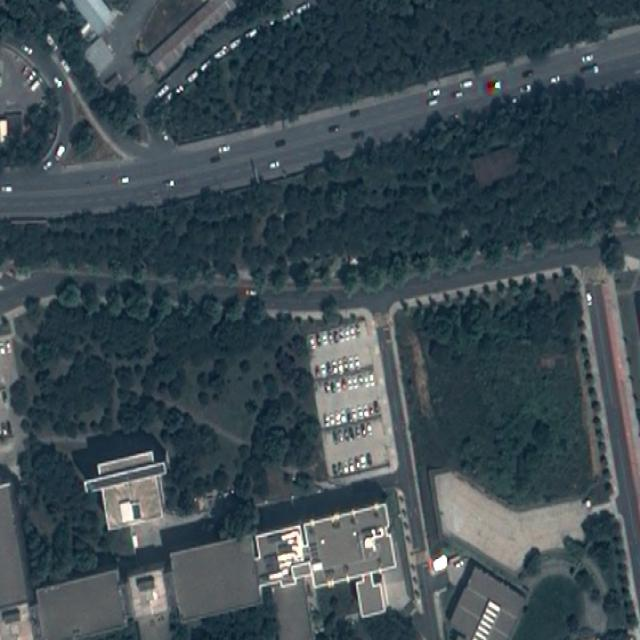Batiment: (172, 504, 396, 621), (84, 450, 166, 530), (36, 570, 125, 640), (451, 567, 525, 640), (128, 571, 169, 639)
